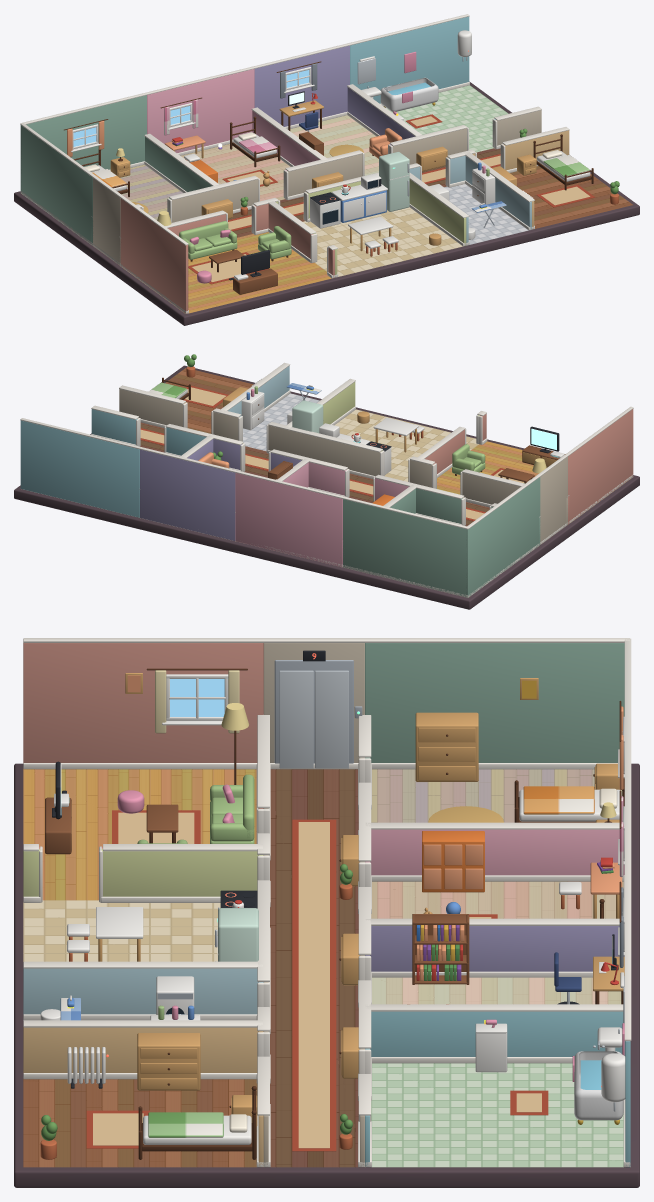
Rendered from floor9.glb.
3 views of the same model, one above another, from view 1: azimuth 30°, elevation 25°; view 2: azimuth 150°, elevation 25°; view 3: azimuth 270°, elevation 25° (orthographic). The views are drawn at different scales.
Visible parts, largest first — view 1: slab, wall_bath_y9.6_0, wall_kids_y9.6_0, floor_kitchen, wall_bedroom_x0.0_0, wall_living_x0.0_0, wall_bedroom_y9.6_0, wall_study_y9.6_0, floor_living, floor_bath, floor_guest, floor_kids (+35 smaller); view 2: wall_bedroom_y9.6_0, slab, wall_bath_y9.6_0, wall_kids_y9.6_0, wall_study_y9.6_0, wall_bedroom_x0.0_0, wall_living_x0.0_0, floor_kitchen, wall_hall_y3.8_2, wall_hall_x0.0_0, floor_guest, floor_living (+28 smaller); view 3: wall_bedroom_x0.0_0, wall_living_x0.0_0, floor_bath, slab, floor_hall, floor_living, floor_guest, rug_in.004, wall_bath_x11.0_0, floor_kitchen, wall_laundry_x9.4_0, wall_kids_x4.2_0 (+61 smaller).
Boxes of the visible parts, left/top/right/bottom form: slab: left=14, top=81, right=639, bottom=325; wall_bath_y9.6_0: left=350, top=16, right=469, bottom=103; wall_kids_y9.6_0: left=147, top=69, right=254, bottom=152; floor_kitchen: left=303, top=207, right=462, bottom=276; wall_bedroom_x0.0_0: left=21, top=126, right=92, bottom=243; wall_living_x0.0_0: left=120, top=198, right=188, bottom=313; wall_bedroom_y9.6_0: left=20, top=95, right=146, bottom=191; wall_study_y9.6_0: left=254, top=45, right=349, bottom=126; floor_living: left=123, top=232, right=331, bottom=313; floor_bath: left=386, top=85, right=508, bottom=152; floor_guest: left=510, top=166, right=632, bottom=228; floor_kids: left=181, top=144, right=290, bottom=201; wall_bedroom_y9.6_0: left=343, top=499, right=469, bottom=597; slab: left=14, top=365, right=639, bottom=609; wall_bath_y9.6_0: left=20, top=420, right=139, bottom=517; wall_kids_y9.6_0: left=235, top=473, right=342, bottom=567; wall_study_y9.6_0: left=140, top=449, right=235, bottom=540; wall_bedroom_x0.0_0: left=466, top=477, right=540, bottom=596; wall_living_x0.0_0: left=568, top=409, right=633, bottom=522; floor_kitchen: left=334, top=409, right=478, bottom=481; wall_hall_y3.8_2: left=268, top=425, right=381, bottom=476; wall_hall_x0.0_0: left=540, top=457, right=567, bottom=542; floor_guest: left=165, top=368, right=253, bottom=433; floor_living: left=437, top=441, right=625, bottom=516; wall_bedroom_x0.0_0: left=365, top=643, right=624, bottom=762; wall_living_x0.0_0: left=23, top=642, right=263, bottom=762; floor_bath: left=371, top=1063, right=623, bottom=1167; slab: left=14, top=763, right=639, bottom=1187; floor_hall: left=270, top=769, right=358, bottom=1167; floor_living: left=23, top=769, right=256, bottom=900; floor_guest: left=23, top=1079, right=257, bottom=1167; rug_in.004: left=298, top=822, right=329, bottom=1148; wall_bath_x11.0_0: left=370, top=1011, right=625, bottom=1056; floor_kitchen: left=23, top=900, right=220, bottom=961; wall_laundry_x9.4_0: left=23, top=968, right=258, bottom=1014; wall_kids_x4.2_0: left=370, top=829, right=624, bottom=875.
Size of the model in its own units: 15.3 by 2.54 by 9.9.
Materials: 68 (13 with a texture image).
